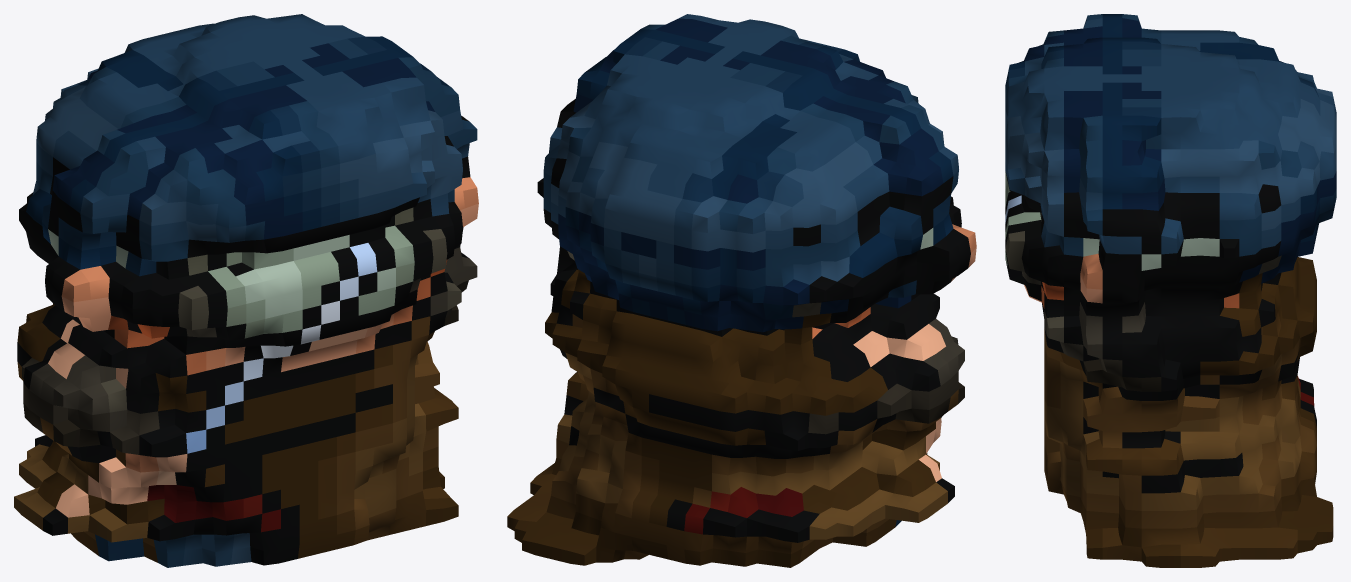
File: Icon_713_01.obj
3 renders of one model, left to right at view 1: azimuth 30°, elevation 25°; view 2: azimuth 150°, elevation 25°; view 3: azimuth 270°, elevation 25°, orthographic. The views are drawn at different scales.
Size of the model in its own units: 2.2 by 2.4 by 1.7.
